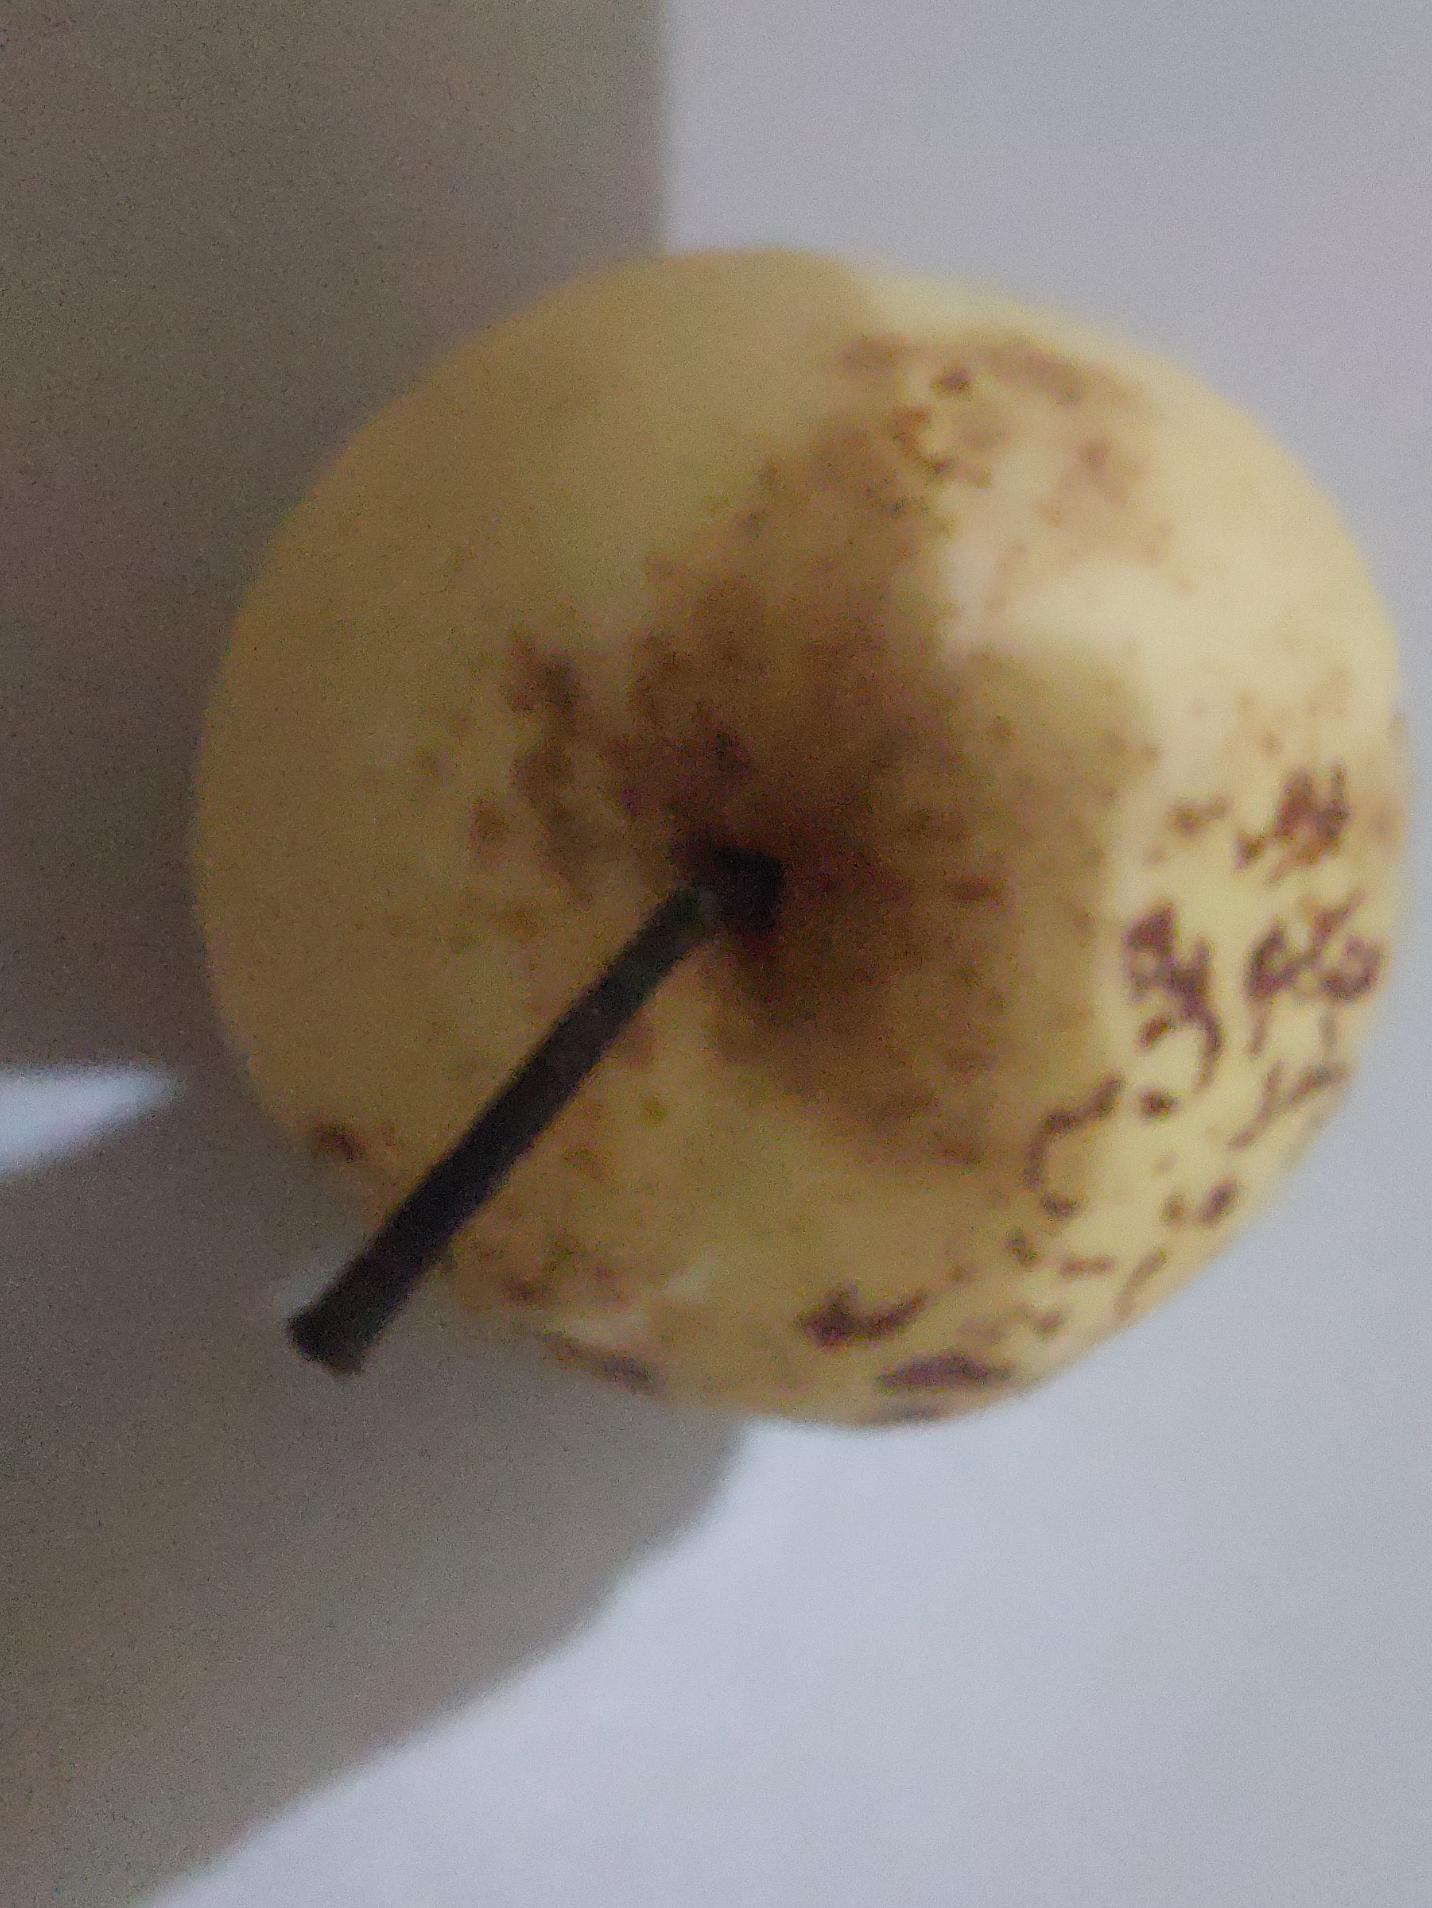Bad Pear: (146, 215, 1405, 1460)
